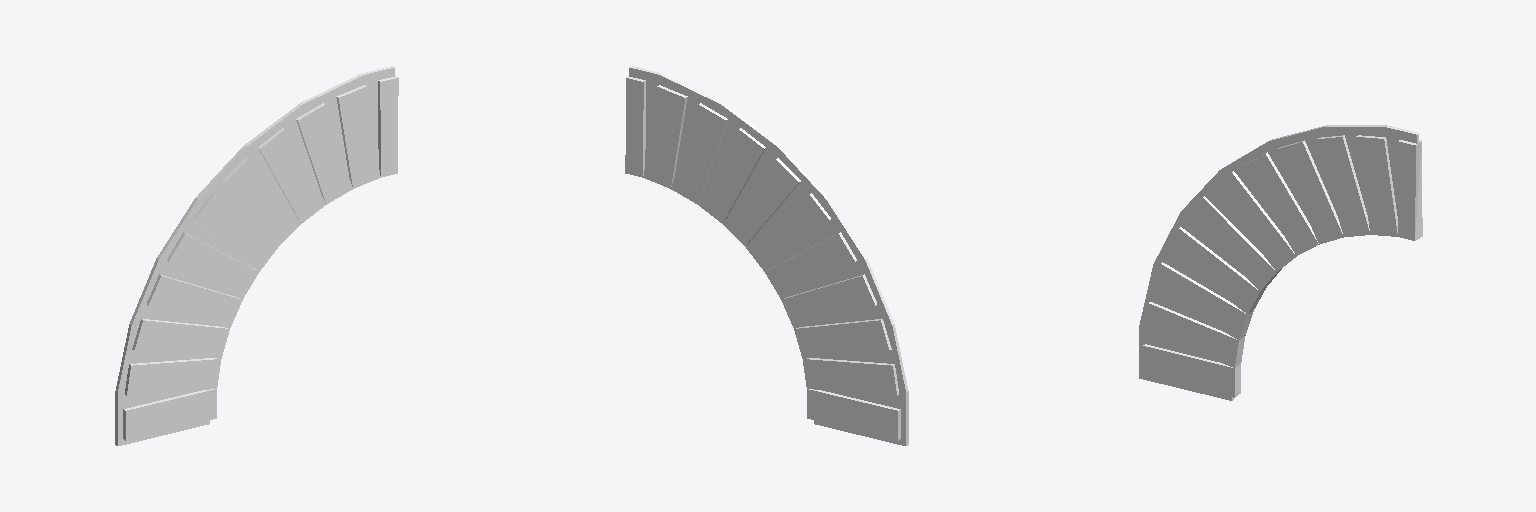
Rendered from lime_mortar_orange_clay_brick_facade_round_arch_2_left.obj.
The picture shows the model from 3 angles: view 1: azimuth 30°, elevation 25°; view 2: azimuth 150°, elevation 25°; view 3: azimuth 330°, elevation 25°; orthographic projection.
Visible parts, largest first — view 1: bricks_3, mortar_3; view 2: bricks_3, mortar_3; view 3: bricks_3, mortar_3.
Boxes of the visible parts, box(x1,y1,x2,y2) form: bricks_3: box(123, 76, 398, 440); mortar_3: box(115, 66, 394, 445); bricks_3: box(625, 76, 900, 440); mortar_3: box(629, 66, 908, 445); bricks_3: box(1143, 135, 1422, 397); mortar_3: box(1139, 125, 1418, 400).
Size of the model in its own units: 1.52 by 1.62 by 0.0625.